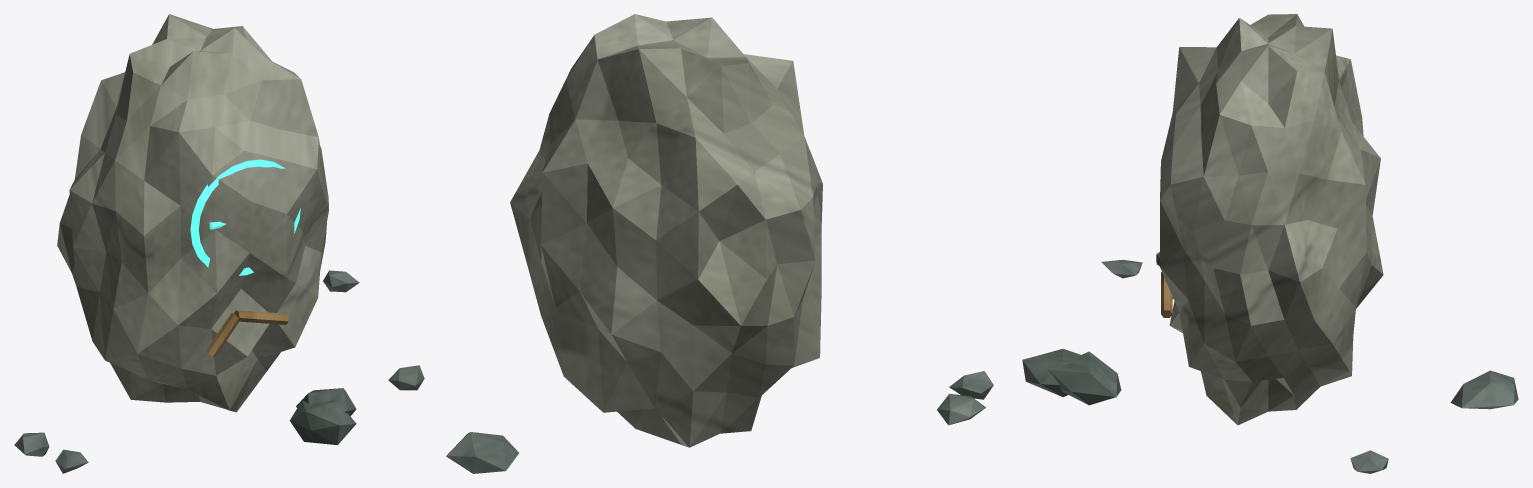
Rendered from 0673_waystone_23.glb.
3 renders of one model, left to right at view 1: azimuth 30°, elevation 25°; view 2: azimuth 150°, elevation 25°; view 3: azimuth 270°, elevation 25°, orthographic. The views are drawn at different scales.
Visible parts, largest first — view 1: stone_light, stone, glow, brass; view 2: stone_light, stone; view 3: stone_light, stone.
Boxes of the visible parts, box(x1,y1,x2,y2) form: stone_light: box(57, 14, 328, 412); stone: box(14, 270, 359, 473); glow: box(190, 159, 300, 275); brass: box(205, 310, 288, 357); stone_light: box(510, 14, 822, 447); stone: box(388, 365, 993, 473); stone_light: box(1160, 14, 1383, 425); stone: box(1022, 252, 1518, 473).
Size of the model in its own units: 1.73 by 1.43 by 1.66.
4 materials, 4 textured.
